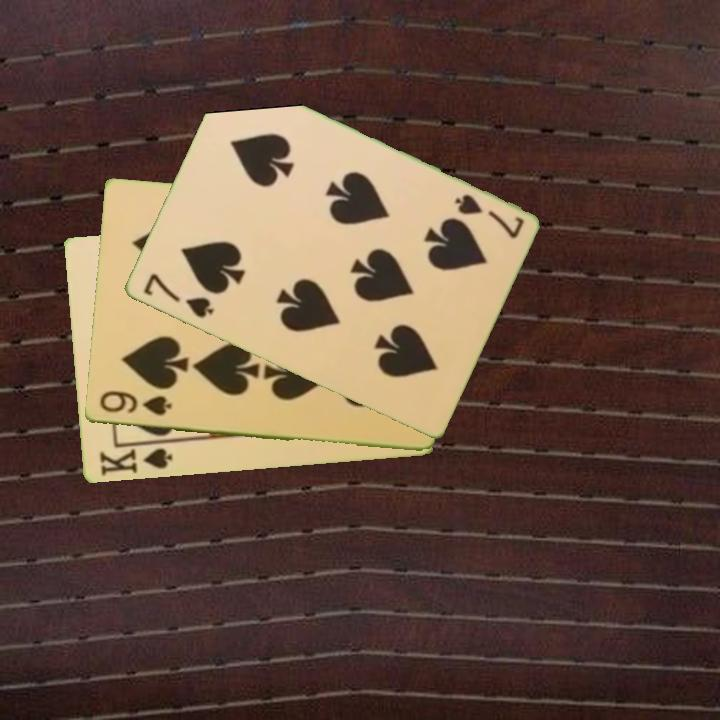7s: (450, 190, 527, 242), (139, 270, 216, 321)
9s: (96, 388, 175, 419)
Ks: (95, 439, 175, 480)
